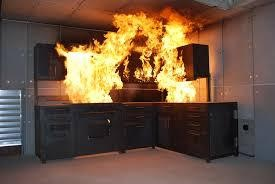fire: (53, 7, 204, 105)
